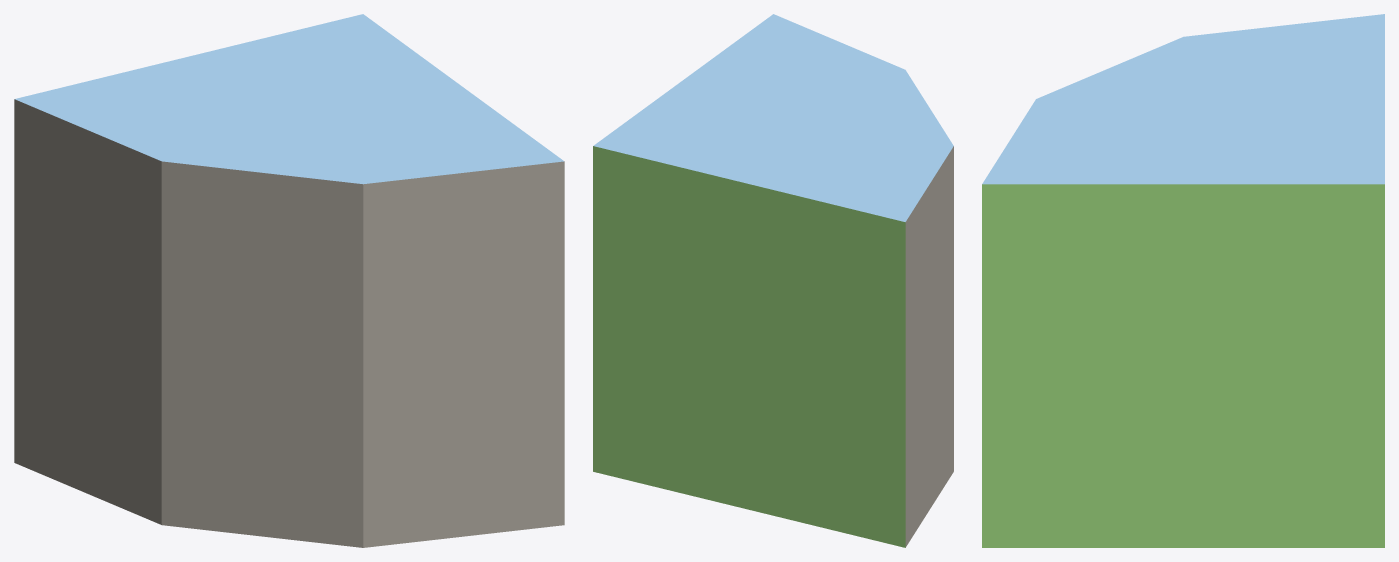
The model's file is Wall_Curve_Outer_2x2_Mid.glb.
3 views of the same model, side by side, from view 1: azimuth 30°, elevation 25°; view 2: azimuth 150°, elevation 25°; view 3: azimuth 270°, elevation 25° (orthographic). The views are drawn at different scales.
Parts seen in each view (by area): view 1: Wall_Curve_Outer_2x2_Mid; view 2: Wall_Curve_Outer_2x2_Mid; view 3: Wall_Curve_Outer_2x2_Mid.
Boxes of the visible parts, x1,y1,x2,y2 form: Wall_Curve_Outer_2x2_Mid: (14, 14, 564, 547); Wall_Curve_Outer_2x2_Mid: (593, 14, 953, 547); Wall_Curve_Outer_2x2_Mid: (982, 14, 1384, 547).
Bounding box in the file's own units: 100 × 100 × 100.
